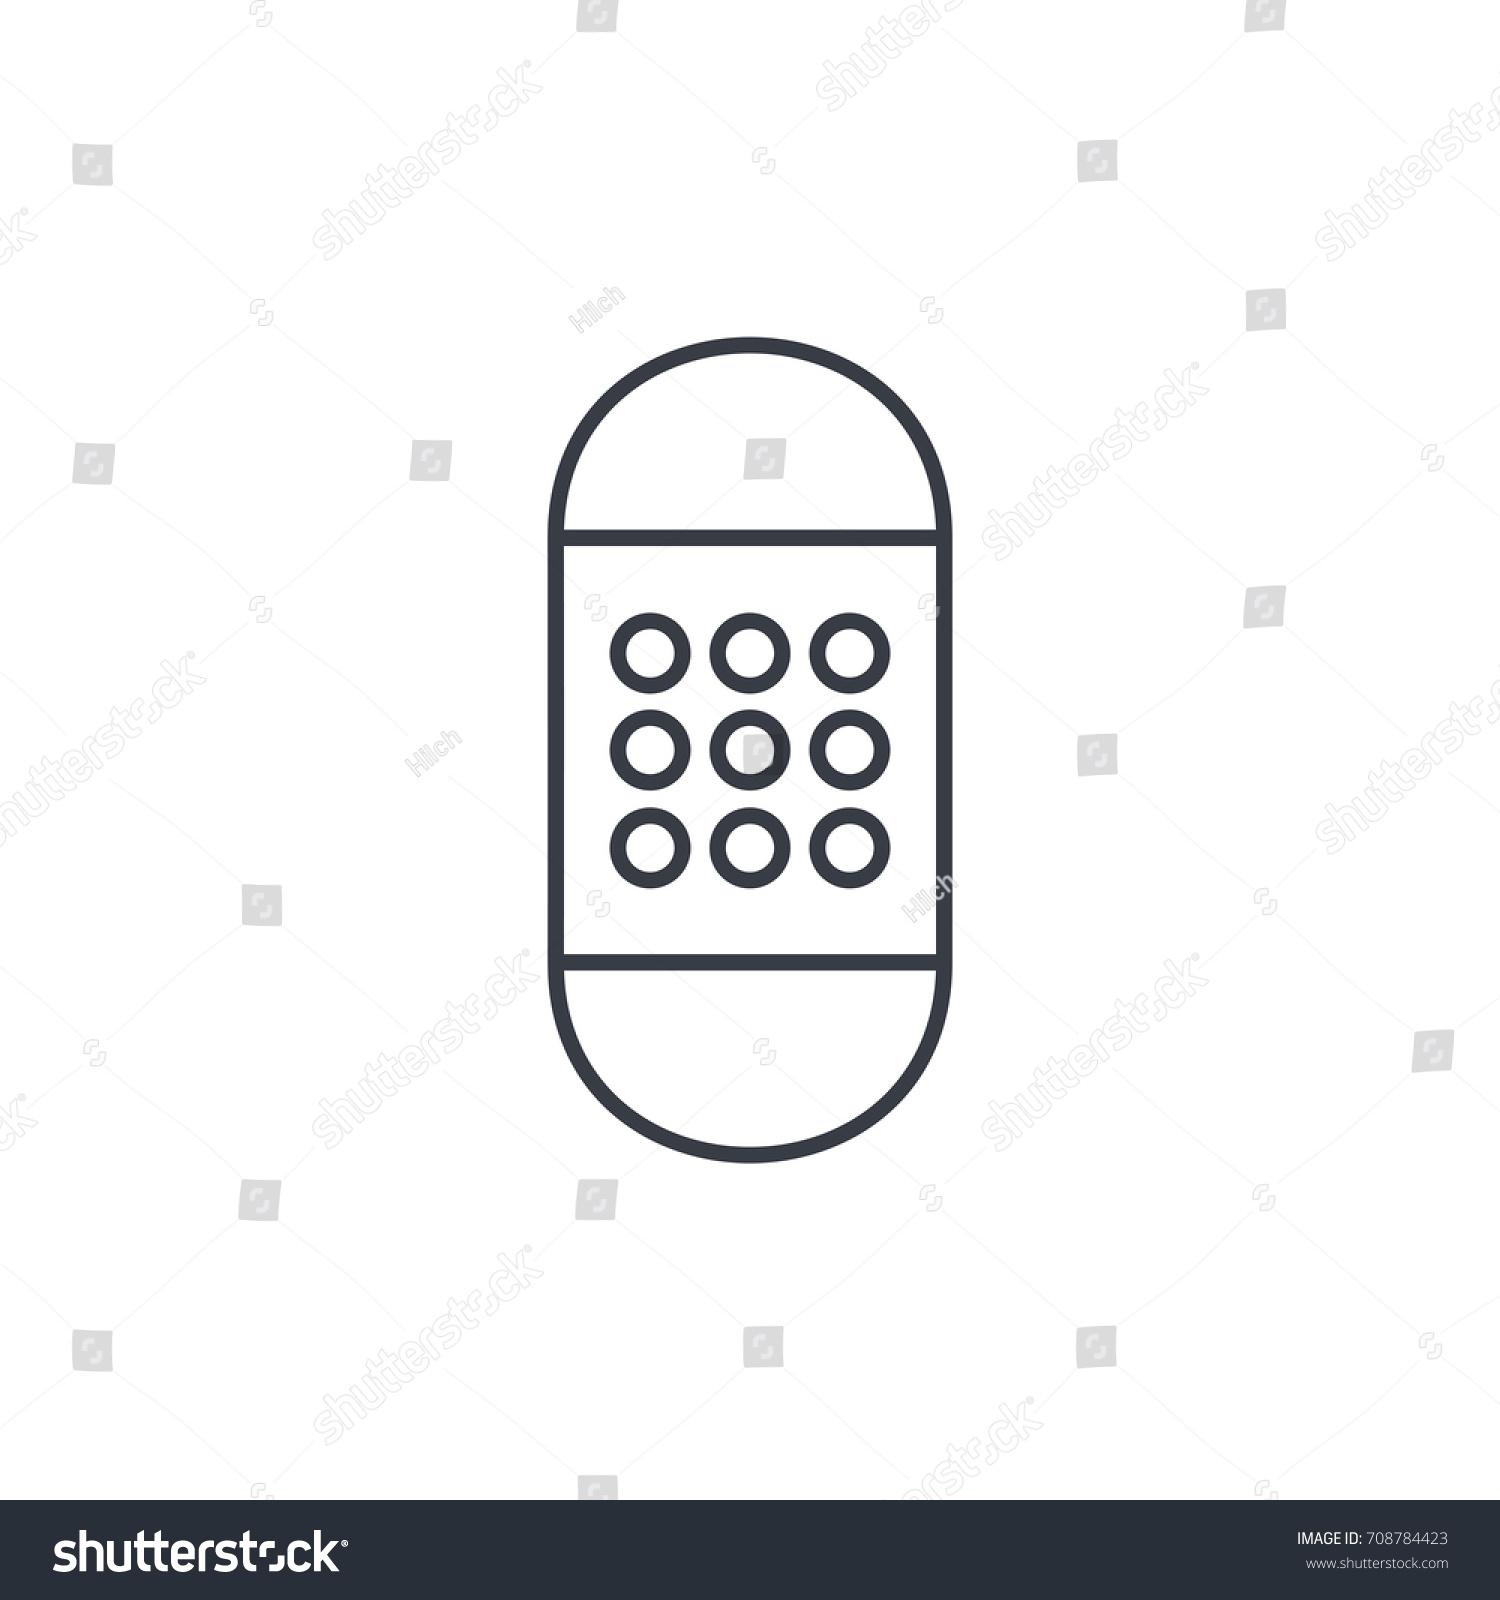bandage: (544, 334, 957, 1155)
